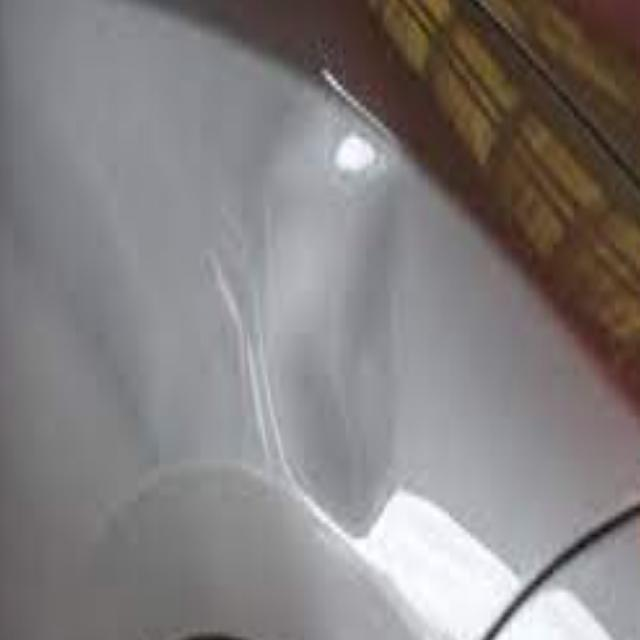dents: (245, 156, 403, 538)
